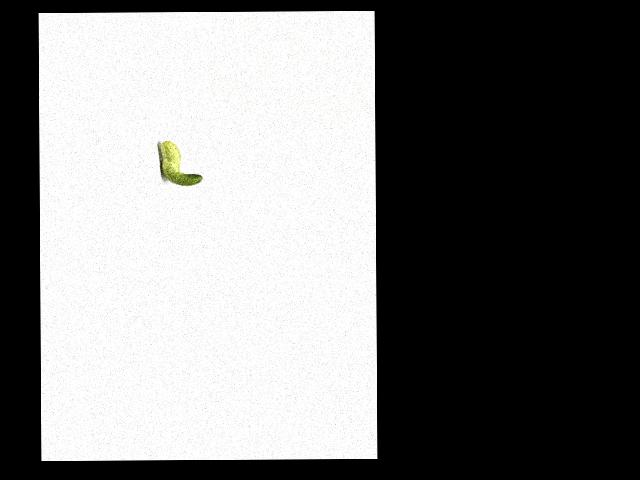cucumber: (159, 140, 202, 186)
